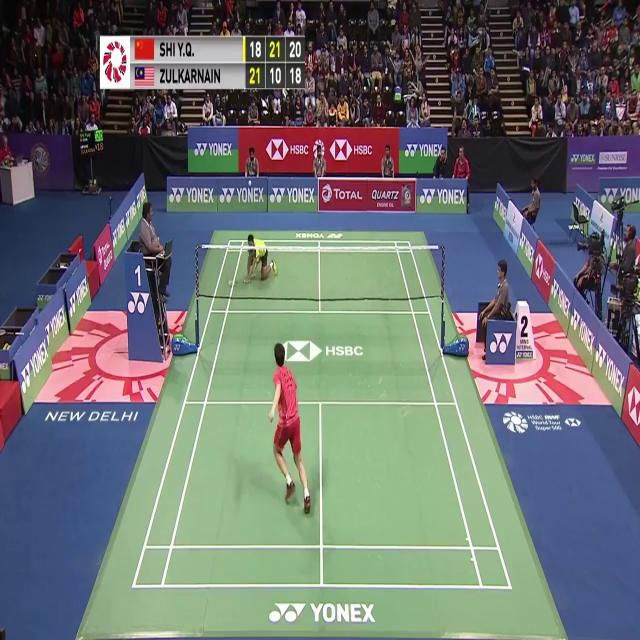Shuttlecock: (247, 176, 254, 188)
